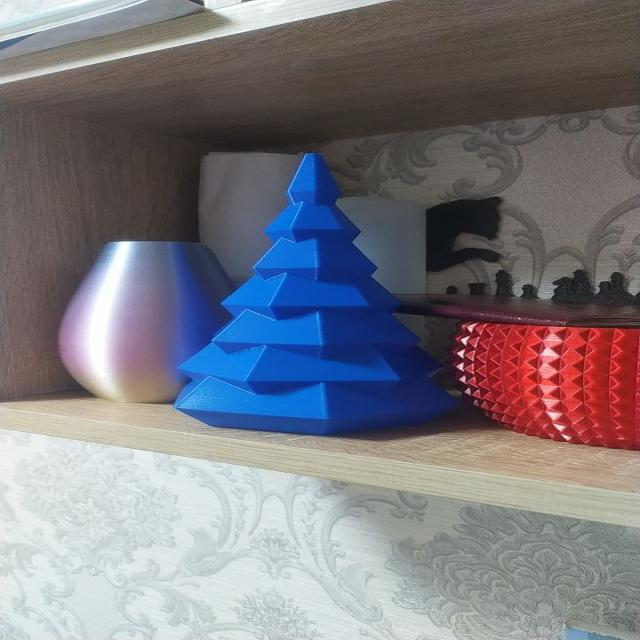Without deffect: (166, 134, 460, 461)
